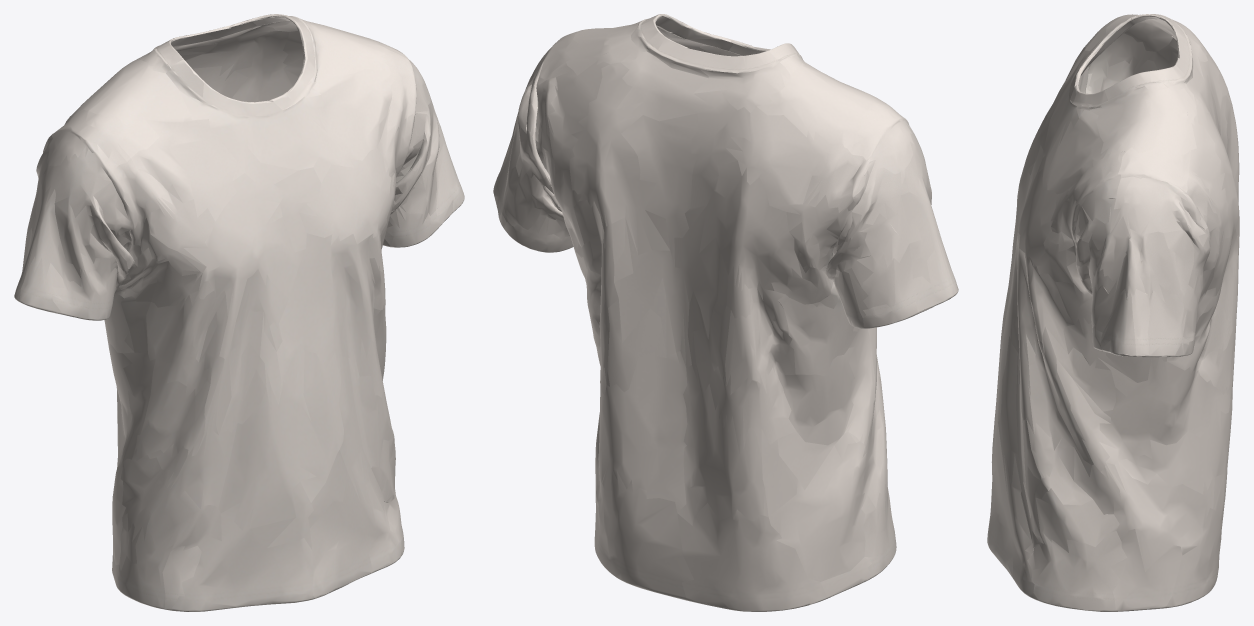
The model's file is camiseta.glb.
3 views of the same model, side by side, from view 1: azimuth 30°, elevation 25°; view 2: azimuth 150°, elevation 25°; view 3: azimuth 270°, elevation 25° (orthographic). The views are drawn at different scales.
Bounding box in the file's own units: 1.68 × 1.9 × 0.8375.
Materials: 1 (1 with a texture image).
